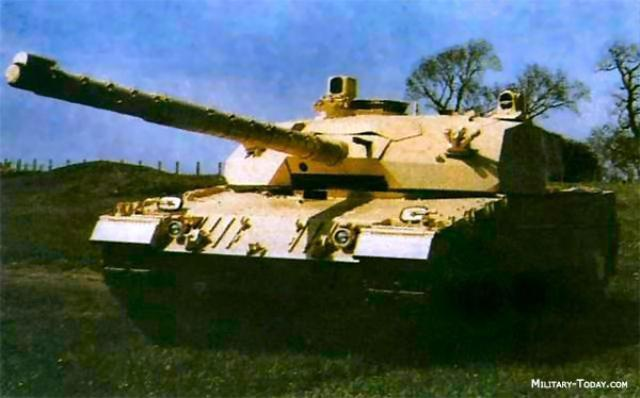tank: (118, 106, 612, 345)
